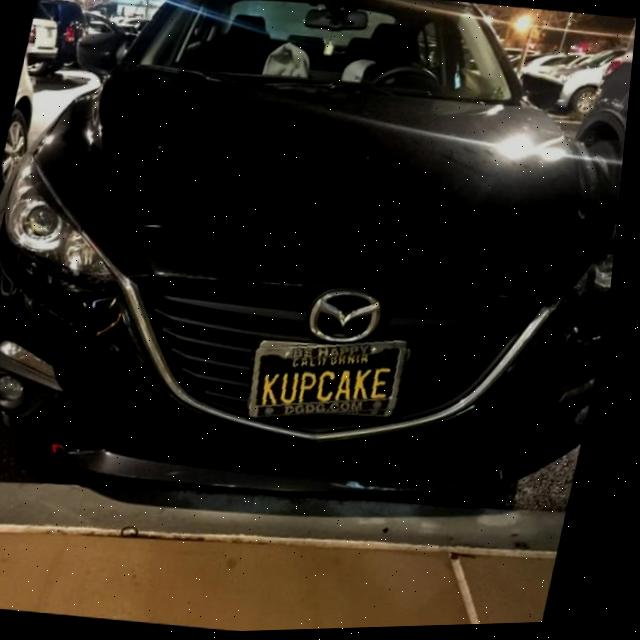LicensePlate: (256, 343, 415, 420)
